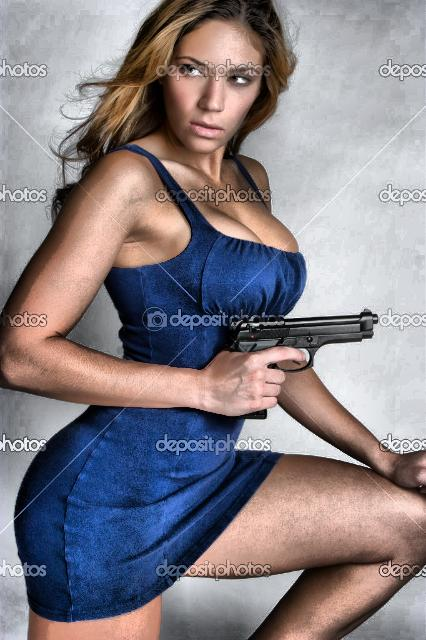pistol: (215, 309, 383, 419)
